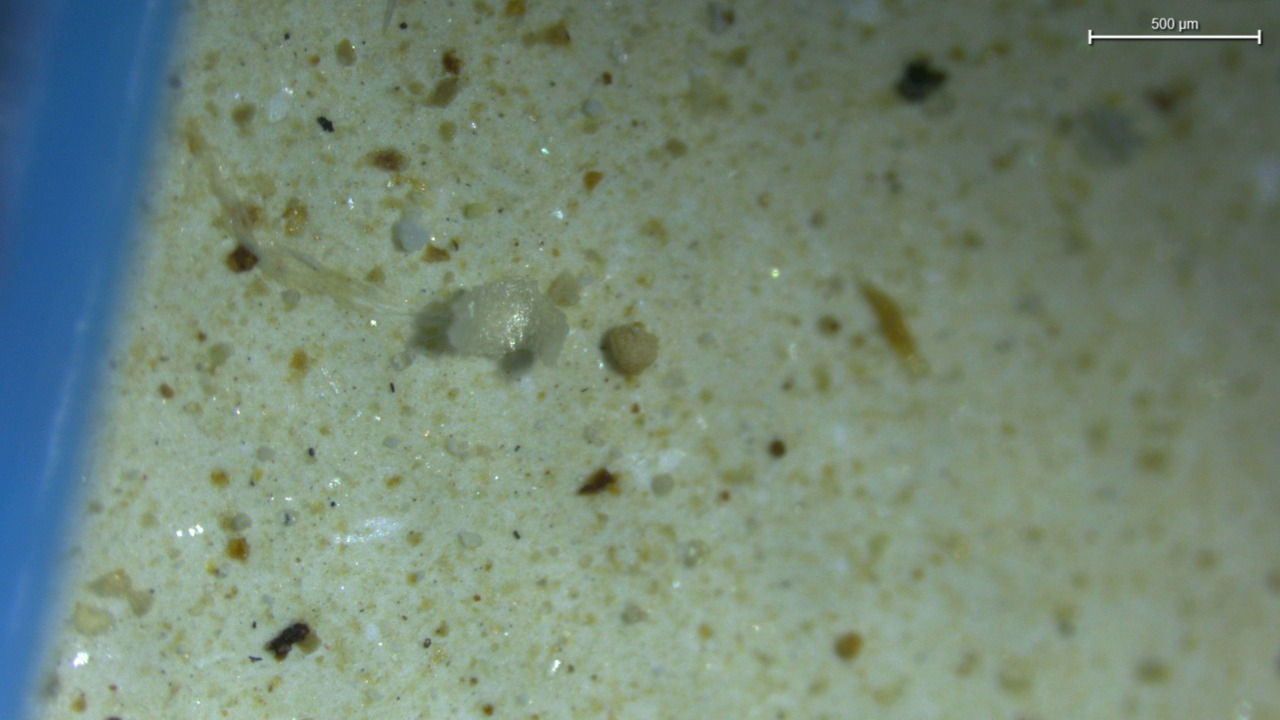microplastic_fragment: (444, 279, 569, 364), (602, 322, 659, 377), (393, 219, 430, 252)
